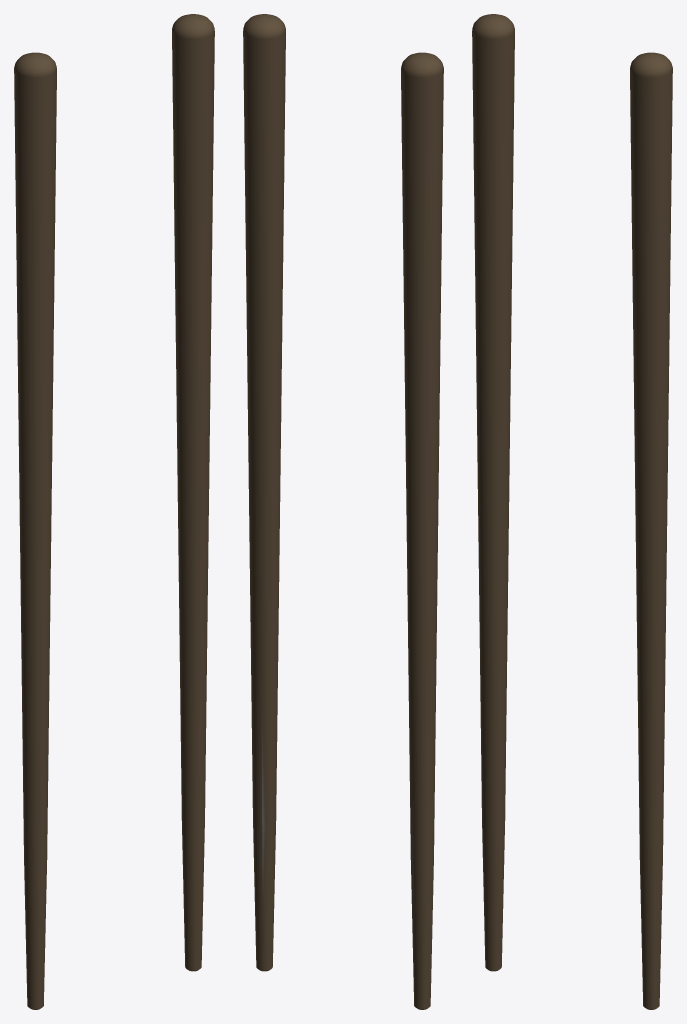
File: Chopsticks.fbx
3 renders of one model, left to right at view 1: azimuth 30°, elevation 25°; view 2: azimuth 150°, elevation 25°; view 3: azimuth 330°, elevation 25°, orthographic.
Visible parts, largest first — view 1: Chopsticks; view 2: Chopsticks; view 3: Chopsticks.
Part boxes in pixels (x1=…): Chopsticks: x1=14, y1=14, x2=214, y2=1009; Chopsticks: x1=243, y1=14, x2=443, y2=1009; Chopsticks: x1=472, y1=14, x2=672, y2=1009.
Size of the model in its own units: 64.34 by 300 by 12.34.
